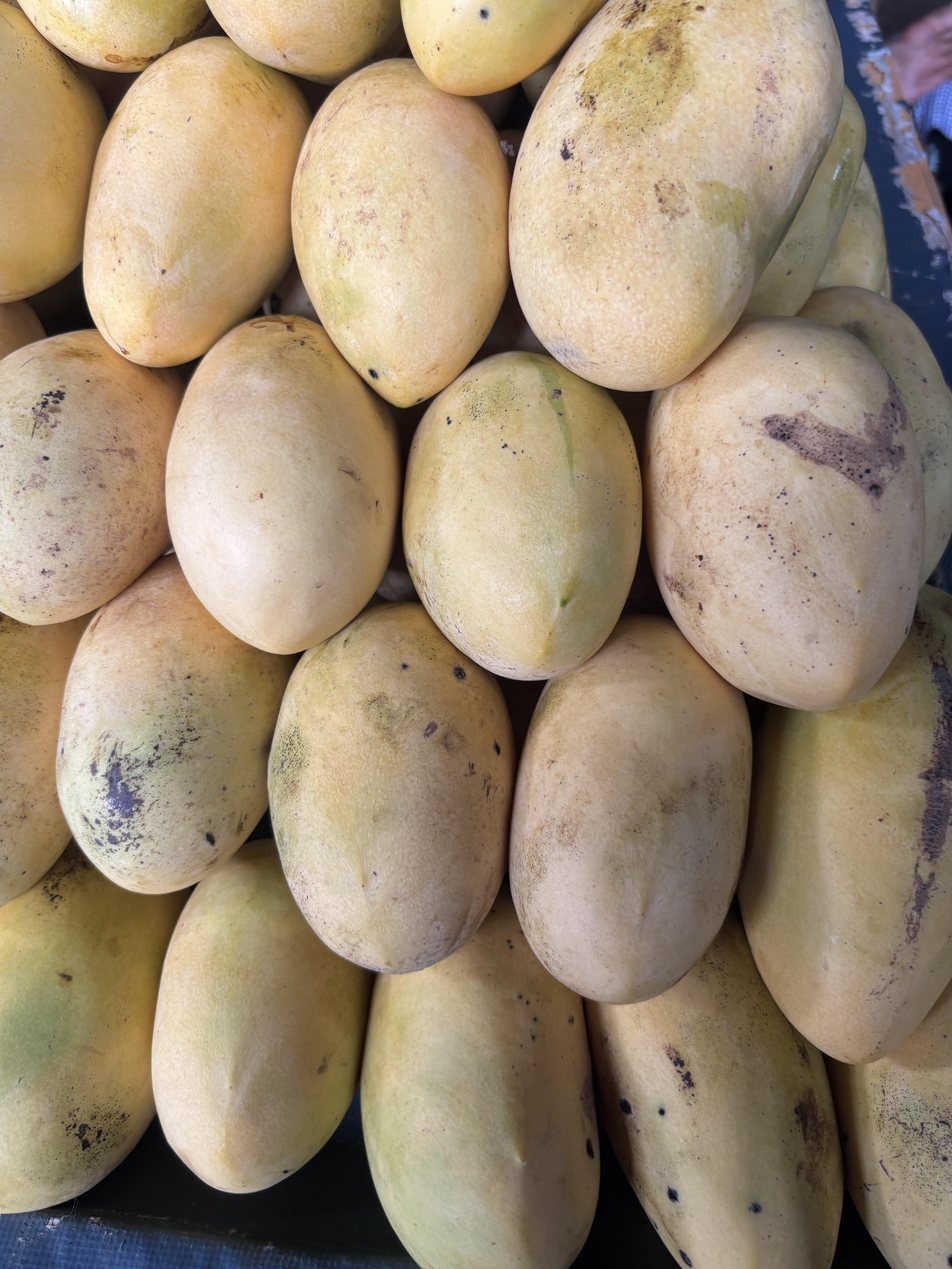mango: (509, 0, 844, 391), (643, 317, 924, 710), (510, 615, 752, 1004), (269, 603, 515, 973), (166, 315, 402, 654), (403, 351, 642, 680), (292, 59, 510, 407), (83, 37, 310, 367)
occluded: (740, 587, 952, 1063), (585, 910, 843, 1269), (361, 883, 599, 1269), (56, 555, 296, 893), (152, 839, 371, 1193), (0, 843, 186, 1213), (0, 328, 184, 624), (799, 286, 952, 582), (827, 981, 952, 1269), (0, 3, 106, 303), (744, 90, 866, 317), (0, 613, 89, 906), (402, 0, 602, 96), (209, 0, 399, 84), (19, 0, 208, 72), (815, 160, 891, 298), (0, 300, 45, 360)
